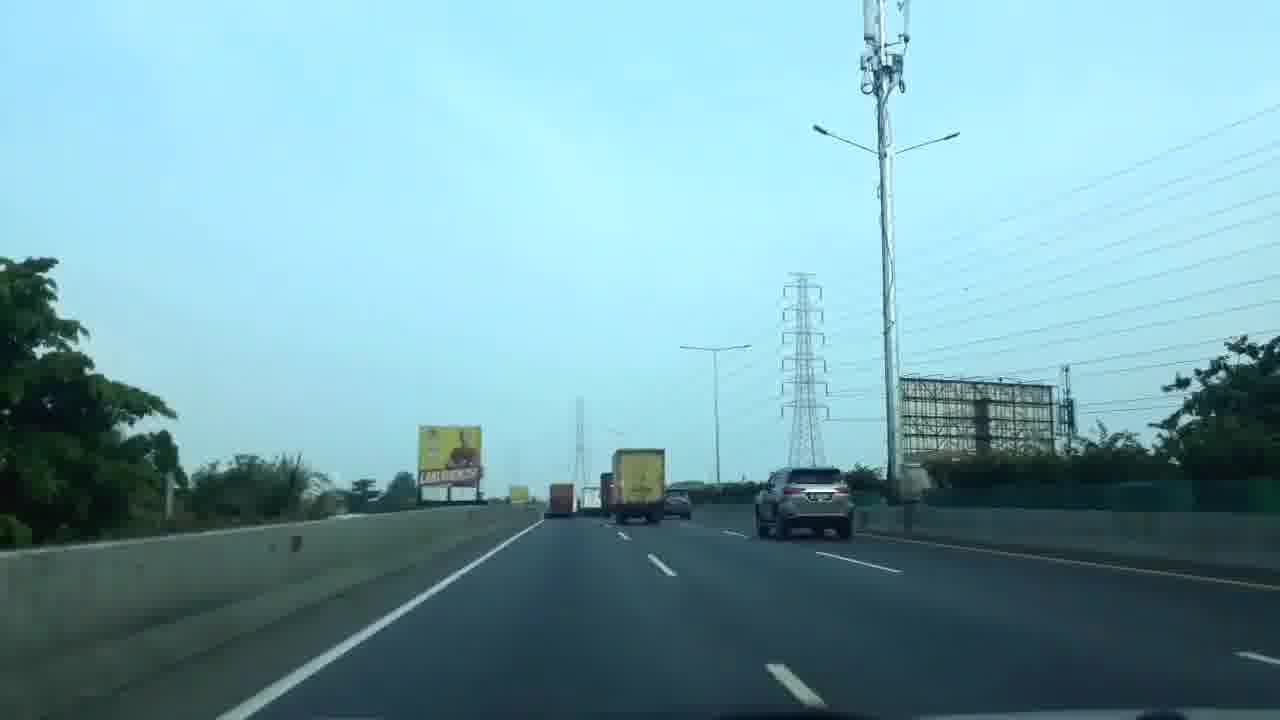plate_positive: (808, 493, 832, 501)
